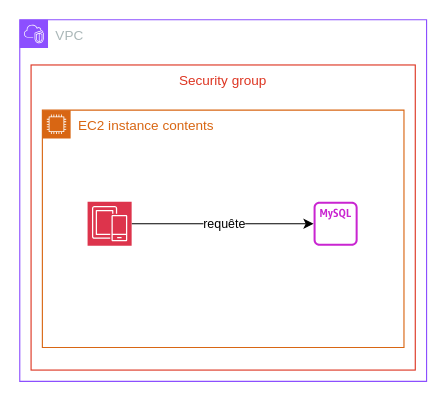
The diagram is 446 pixels wide and 401 high, and some of its shapes have lost their labels. Each missing label, with the centre of its shape:
"Application" goes at point 109,223.
"Base de données" goes at point 335,223.
